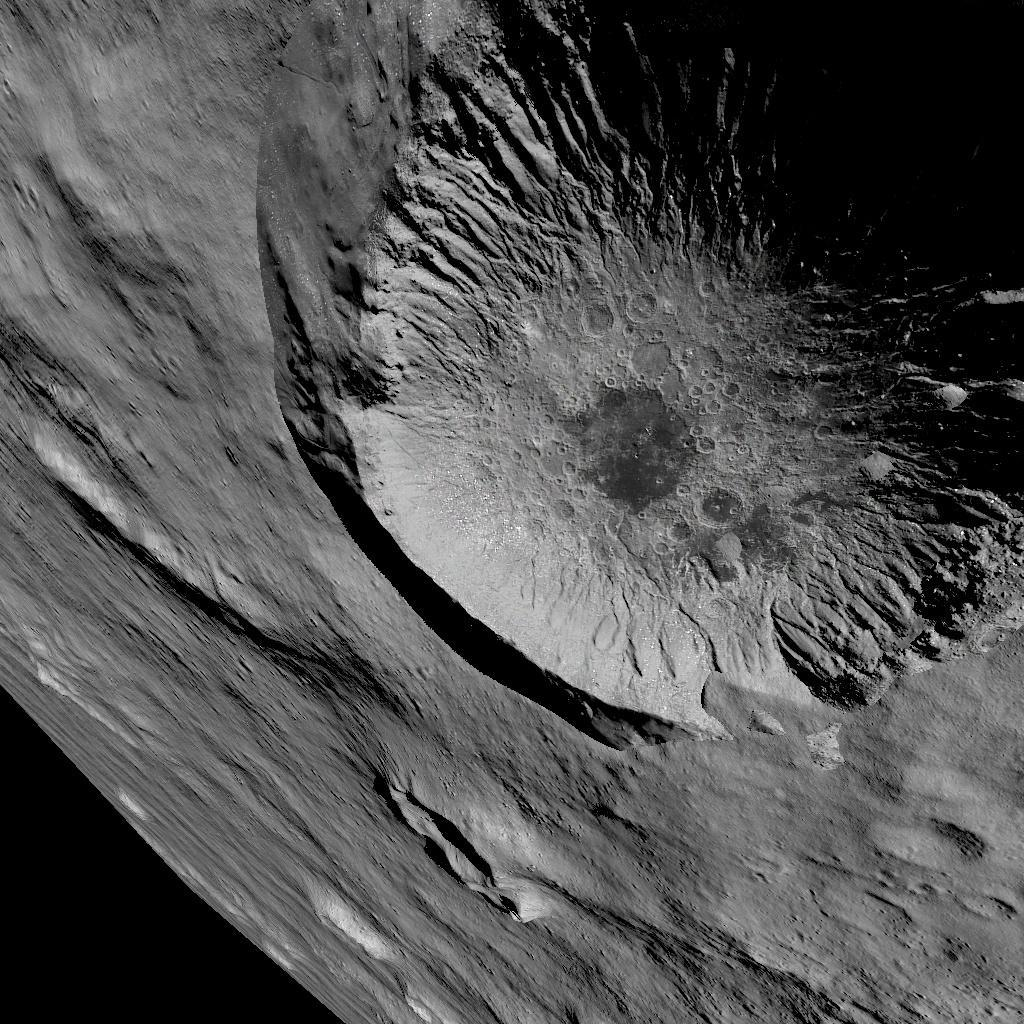Crater: (233, 0, 1021, 753), (347, 770, 517, 929)
Plan surface: (535, 782, 1024, 1024)
